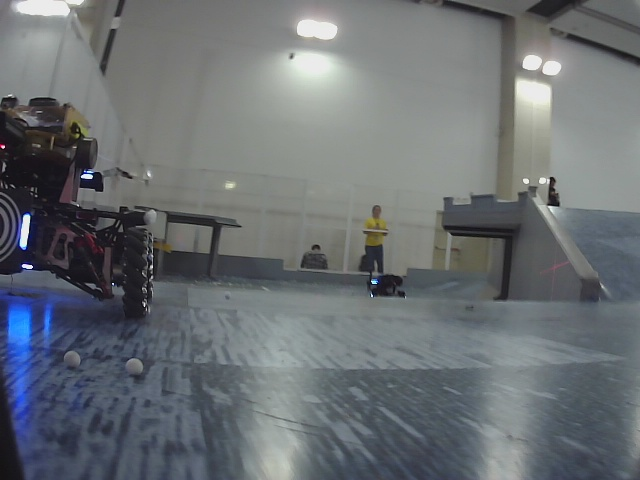lamp: (19, 213, 31, 251)
